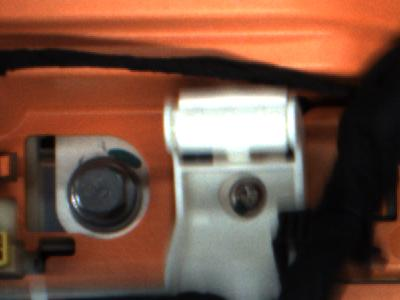nut_b: (66, 150, 146, 237)
